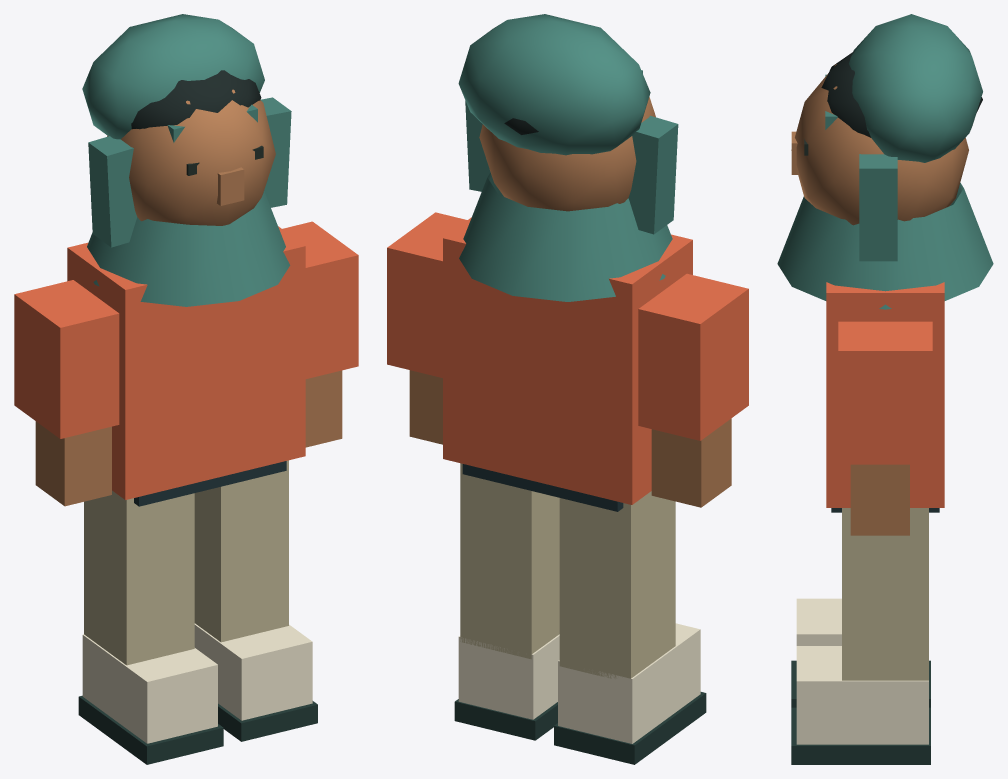
File: male-tudung-short.glb
3 renders of one model, left to right at view 1: azimuth 30°, elevation 25°; view 2: azimuth 150°, elevation 25°; view 3: azimuth 270°, elevation 25°, orthographic. The views are drawn at different scales.
Visible parts, largest first — view 1: male-tudung-short, avatar-tudung, tudung-neck-wrap; view 2: male-tudung-short, avatar-tudung, tudung-neck-wrap; view 3: male-tudung-short, avatar-tudung, tudung-neck-wrap.
Part boxes in pixels (box(x1,y1,x2,y2)): male-tudung-short: box(14, 70, 358, 764); avatar-tudung: box(82, 14, 291, 247); tudung-neck-wrap: box(87, 191, 290, 306); male-tudung-short: box(387, 97, 748, 764); avatar-tudung: box(458, 14, 678, 234); tudung-neck-wrap: box(459, 172, 672, 301); male-tudung-short: box(791, 51, 982, 764); avatar-tudung: box(825, 14, 982, 261); tudung-neck-wrap: box(777, 183, 993, 309).
Bounding box in the file's own units: 1.01 × 2.2 × 0.62.
